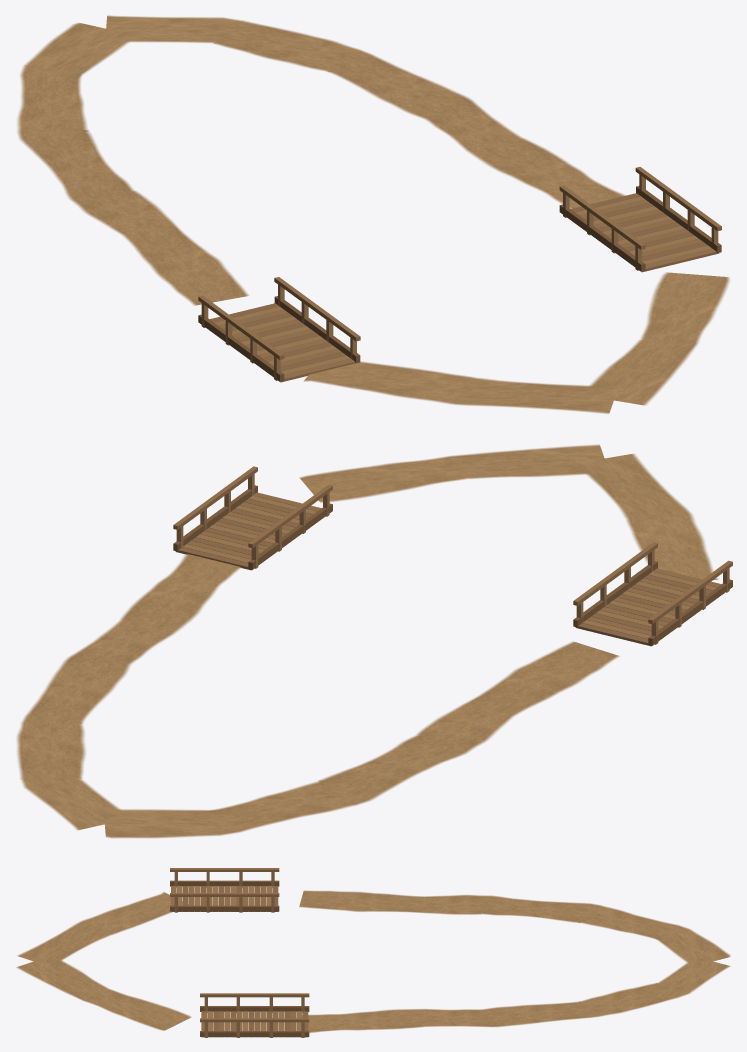
Rendered from assault-routes.glb.
3 renders of one model, top to bottom at view 1: azimuth 30°, elevation 25°; view 2: azimuth 150°, elevation 25°; view 3: azimuth 270°, elevation 25°, orthographic. The views are drawn at different scales.
Parts seen in each view (by area): view 1: assault-Path-earth, assault-Flank-bridge-oak-2, assault-Flank-bridge-oak-1, assault-Flank-bridge-rail, assault-Flank-bridge-oak-0; view 2: assault-Path-earth, assault-Flank-bridge-oak-2, assault-Flank-bridge-oak-1, assault-Flank-bridge-oak-0, assault-Flank-bridge-rail; view 3: assault-Path-earth, assault-Flank-bridge-oak-2, assault-Flank-bridge-rail, assault-Flank-bridge-oak-1, assault-Flank-bridge-oak-0.
Boxes of the visible parts, box(x1,y1,x2,y2) form: assault-Path-earth: box(17, 15, 729, 413); assault-Flank-bridge-oak-2: box(198, 167, 721, 382); assault-Flank-bridge-oak-1: box(201, 174, 718, 380); assault-Flank-bridge-rail: box(198, 186, 721, 381); assault-Flank-bridge-oak-0: box(209, 193, 707, 371); assault-Path-earth: box(16, 444, 718, 838); assault-Flank-bridge-oak-2: box(173, 466, 732, 635); assault-Flank-bridge-oak-1: box(176, 474, 729, 644); assault-Flank-bridge-oak-0: box(175, 499, 712, 646); assault-Flank-bridge-rail: box(173, 485, 732, 645); assault-Path-earth: box(16, 890, 730, 1032); assault-Flank-bridge-oak-2: box(170, 868, 309, 1037); assault-Flank-bridge-rail: box(170, 880, 309, 1036); assault-Flank-bridge-oak-1: box(174, 872, 304, 1037); assault-Flank-bridge-oak-0: box(183, 886, 308, 1037).
Bounding box in the file's own units: 17.43 × 0.98 × 34.92.
5 materials, 1 textured.
